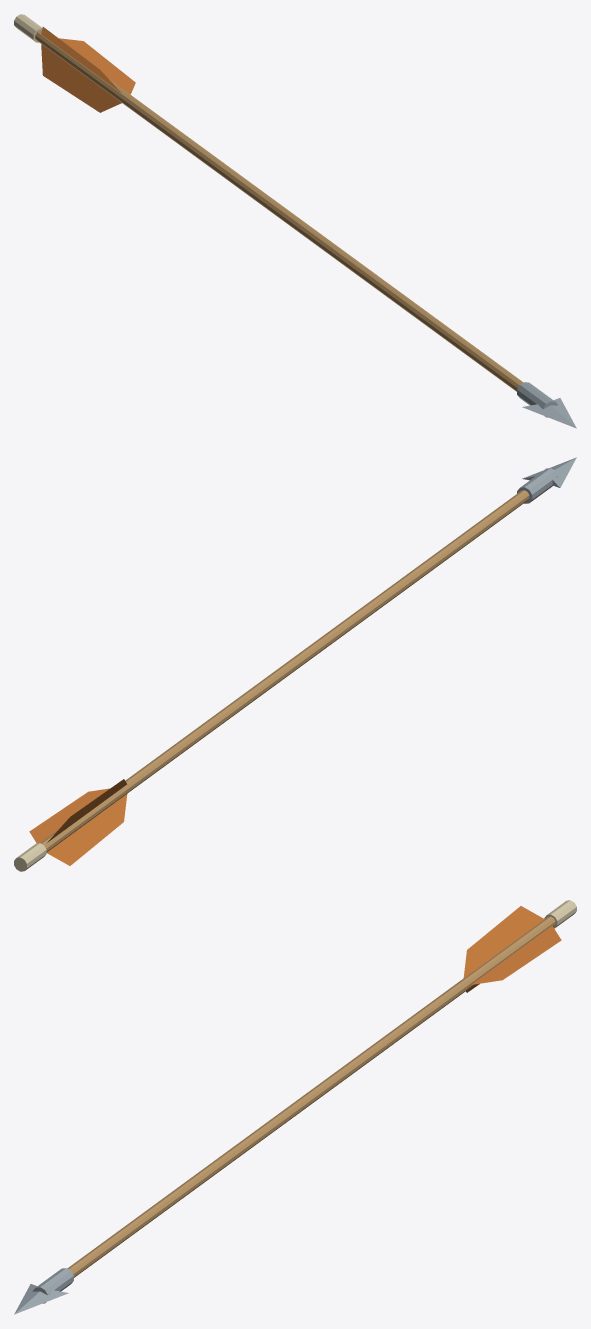
The model's file is arrow.glb.
The picture shows the model from 3 angles, top to bottom: view 1: azimuth 30°, elevation 25°; view 2: azimuth 150°, elevation 25°; view 3: azimuth 330°, elevation 25°; orthographic projection.
Visible parts, largest first — view 1: Cedar shaft, Feather 2, Feather 0, Feather 1, Ferrule, Broadhead; view 2: Cedar shaft, Feather 2, Feather 0, Ferrule, Feather 1, Nock; view 3: Cedar shaft, Feather 1, Feather 0, Ferrule, Broadhead.
Part boxes in pixels (box(x1,y1,x2,y2)): Cedar shaft: box(35, 30, 523, 391); Feather 2: box(41, 44, 121, 112); Feather 0: box(59, 38, 135, 94); Feather 1: box(41, 27, 120, 92); Ferrule: box(517, 382, 558, 417); Broadhead: box(522, 398, 576, 428); Cedar shaft: box(40, 490, 529, 852); Feather 2: box(47, 794, 127, 865); Feather 0: box(29, 788, 109, 843); Ferrule: box(517, 468, 558, 503); Feather 1: box(47, 779, 126, 842); Nock: box(14, 843, 46, 871); Cedar shaft: box(67, 916, 555, 1277); Feather 1: box(463, 906, 544, 978); Feather 0: box(471, 925, 561, 984); Ferrule: box(32, 1268, 73, 1303); Broadhead: box(14, 1284, 68, 1314).
Size of the model in its own units: 0.041 by 0.0416 by 0.85.
